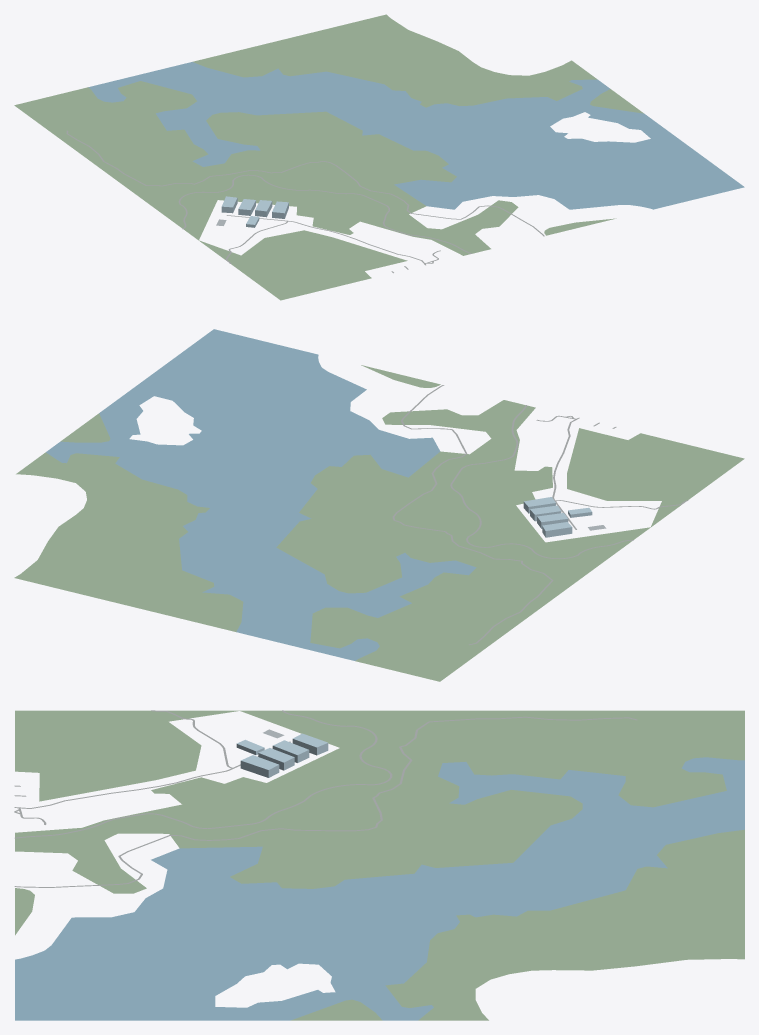
File: -3_8-known-coarse.glb
3 renders of one model, top to bottom at view 1: azimuth 30°, elevation 25°; view 2: azimuth 150°, elevation 25°; view 3: azimuth 270°, elevation 25°, orthographic. The views are drawn at different scales.
Size of the model in its own units: 1001 by 12 by 996.
